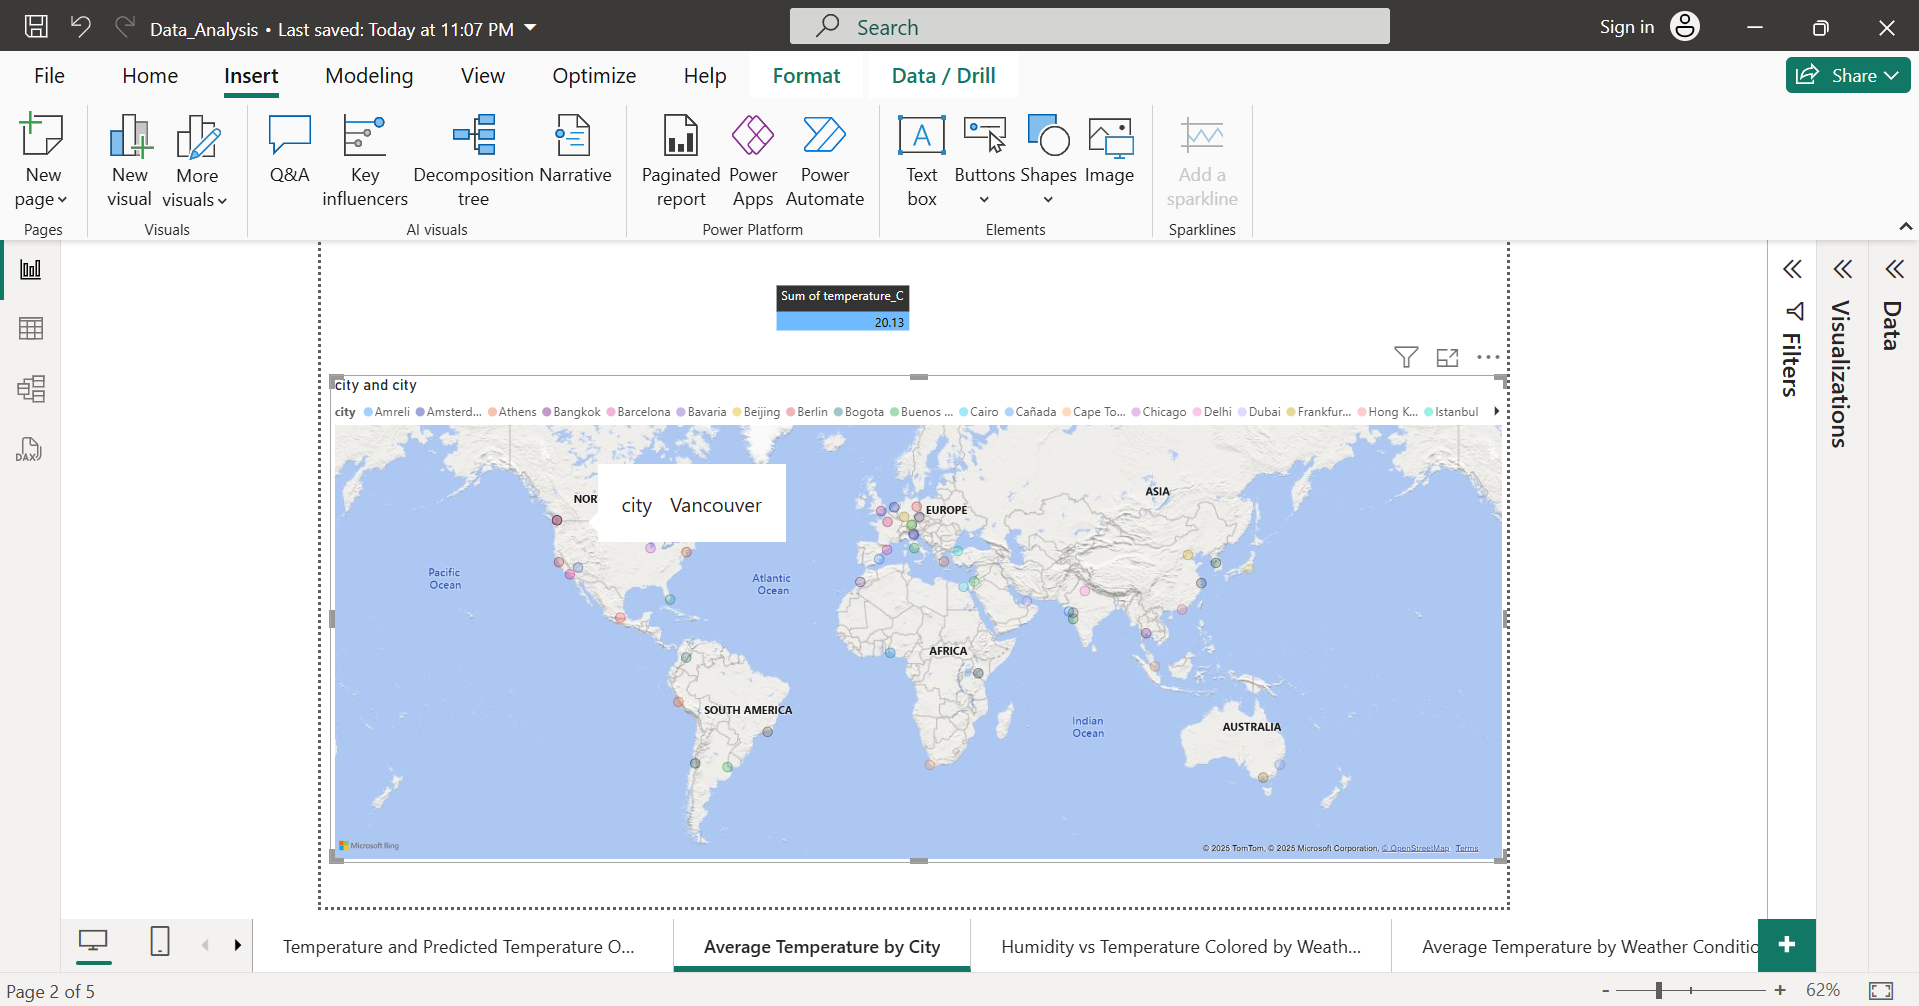

Layout of this report page (visuals, bound fields, positions):
{"tool":"powerbi","page":{"name":"Average Temperature by City","canvas":[1280,720],"ordinal":1},"visuals":[{"type":"map","fields":{"Category":["clean_weather.city"],"Series":["clean_weather.city"]},"box":[10,145,1270,527.5],"z":0},{"type":"tableEx","fields":{"Values":["Sum(clean_weather.temperature_C)"]},"box":[485.8,43.7,280.1,69.6],"z":1}]}

Visuals, with their boxes on the page's 1280x720 design canvas (x1, y1, x2, y2). These are canvas units, not pixel positions in the 1919x1006 screenshot, which may show the page scaled, cropped or inside an application window:
map - clean_weather.city x clean_weather.city: box=[10, 145, 1280, 672]
tableEx - Sum(clean_weather.temperature_C): box=[486, 44, 766, 113]
